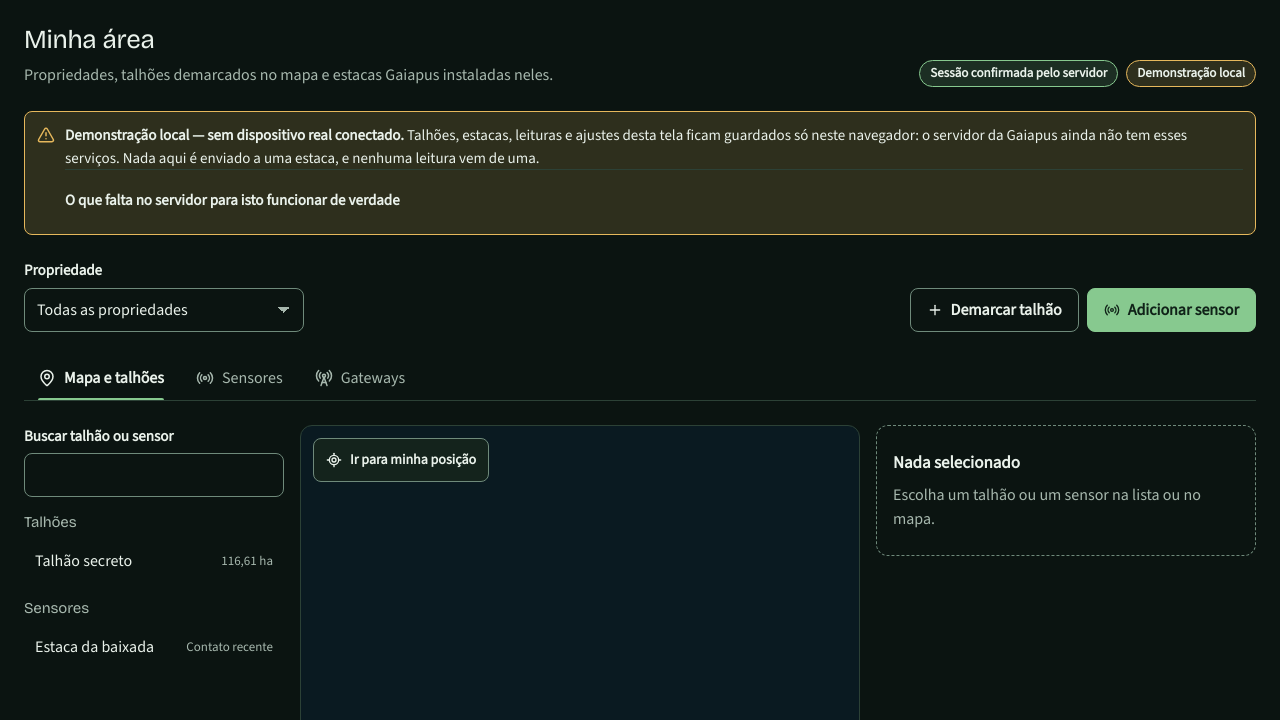
a stake on the screen › shows both depths, raw moisture as not calibrated and the battery as a voltage — no percentage
Click the button "Estaca da baixada Contato recente". click: (154, 647)
box: [24, 625, 284, 669]
(page scrolled)
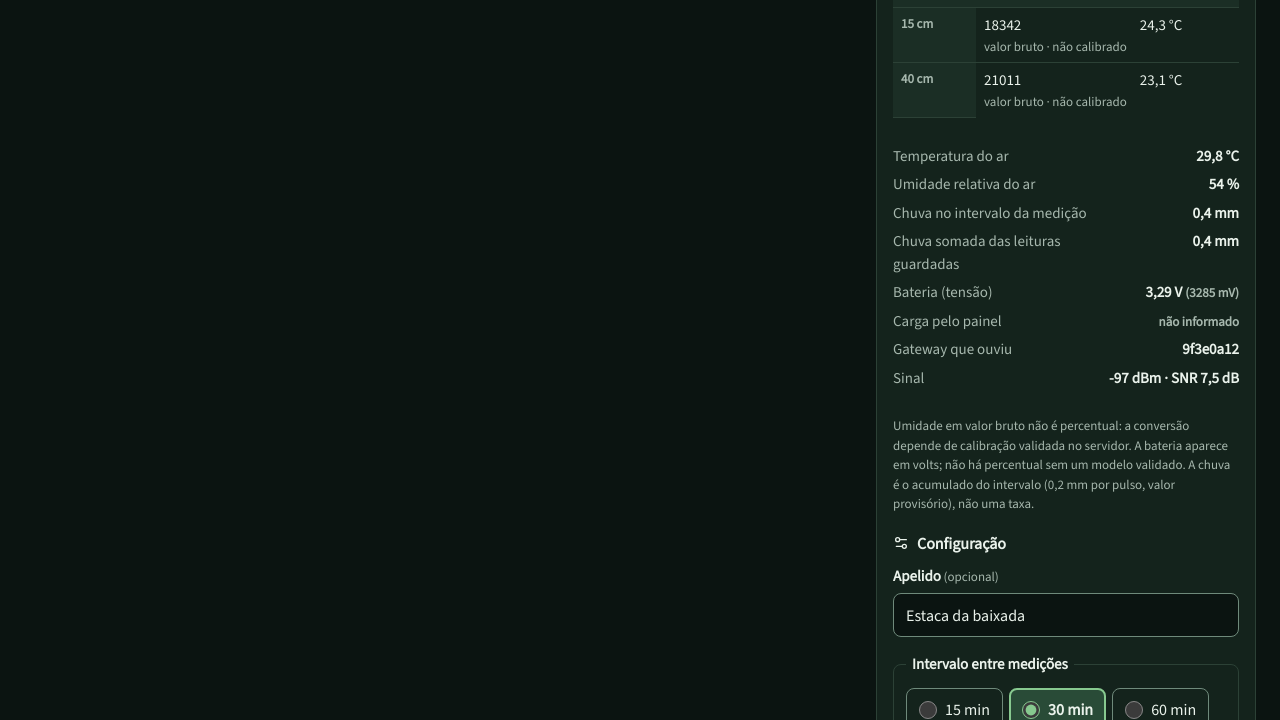
Expected: the column heading "15 cm" is shown, [893, 8, 976, 63]
Expected: the column heading "40 cm" is shown, [893, 63, 976, 117]
Expected: the table with test id "readings-table" shows "18342", [984, 15, 1021, 35]
